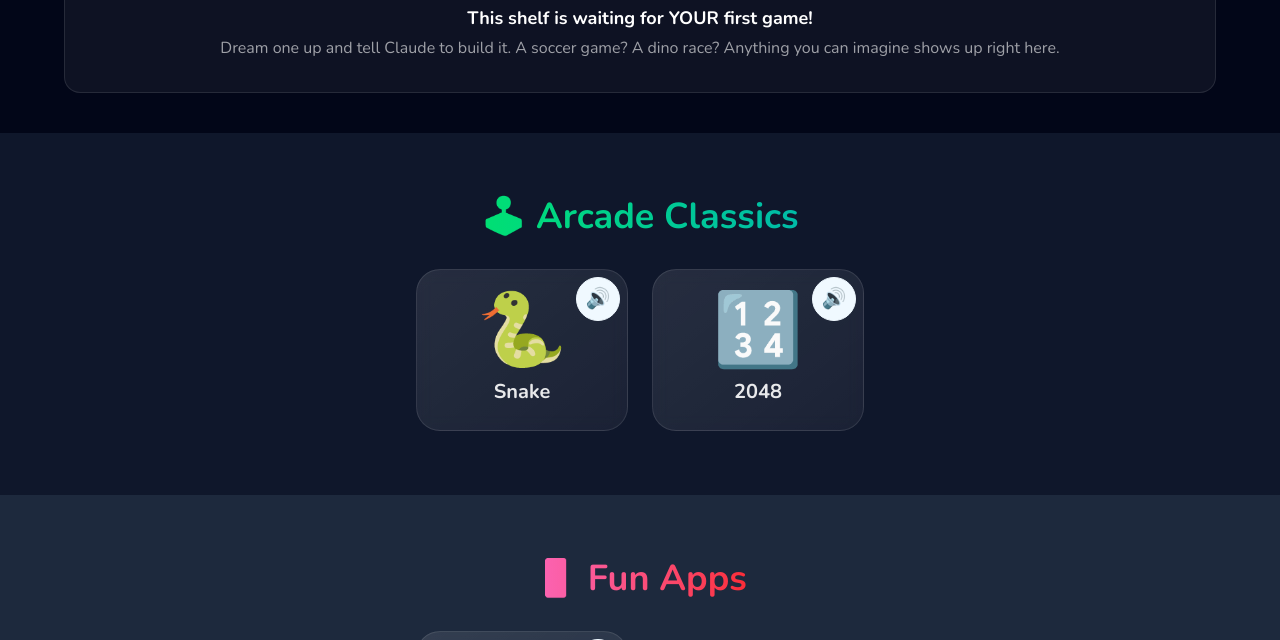
Test: HomeClient › shows a recently played shortcut after a game card is opened
(page scrolled)
Click the link "🐍 Snake".
click(416, 269)  # box x1=416 y1=269 x2=628 y2=431
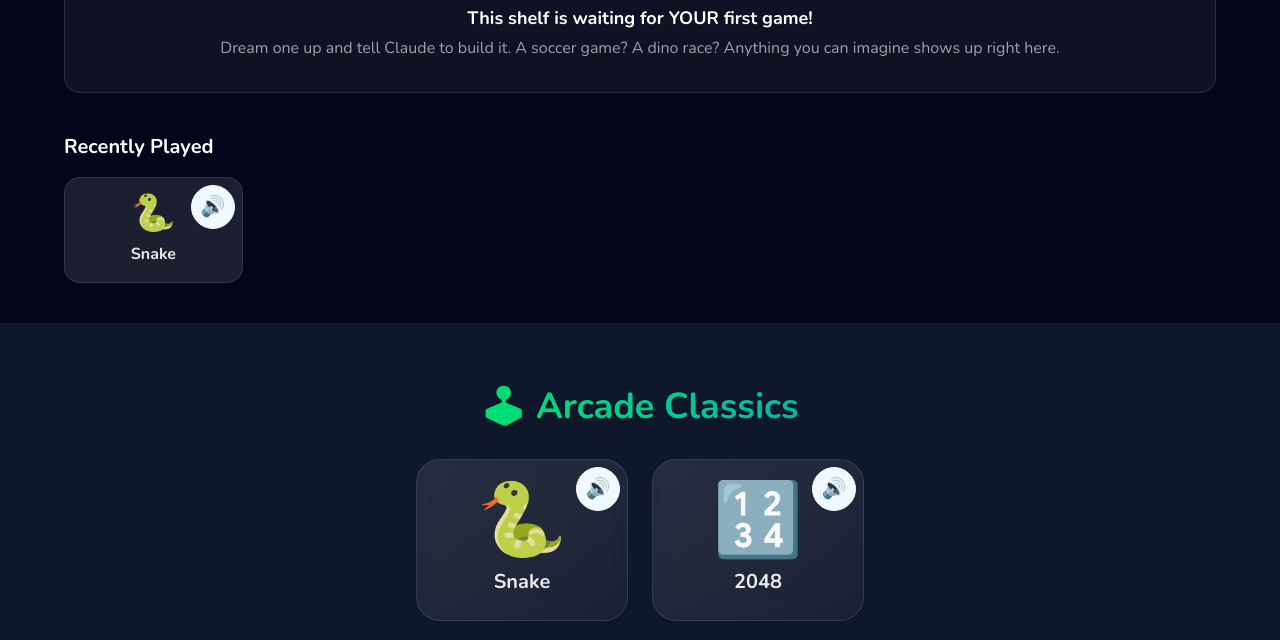
Now the heading "Recently Played" is shown, box x1=64 y1=133 x2=214 y2=160
